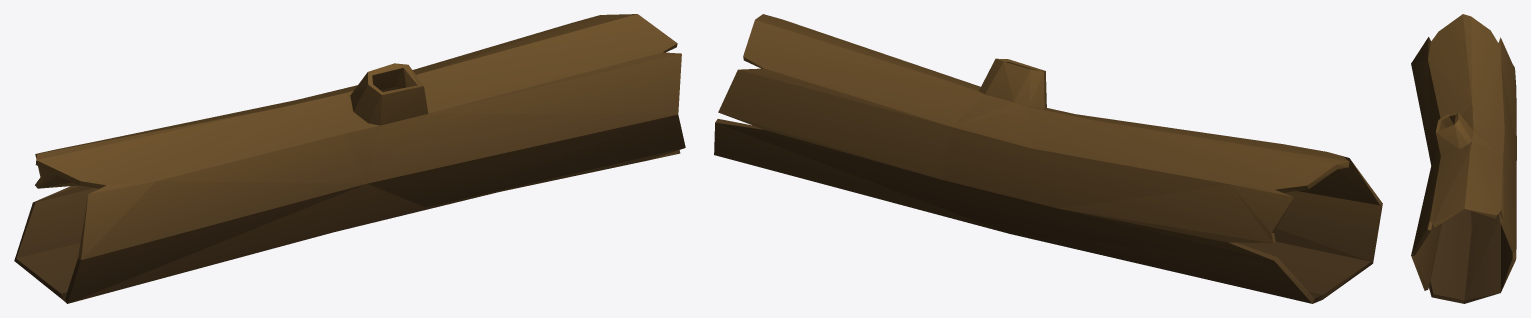
Rendered from Summer_Log_01.glb.
3 renders of one model, left to right at view 1: azimuth 30°, elevation 25°; view 2: azimuth 150°, elevation 25°; view 3: azimuth 270°, elevation 25°, orthographic. The views are drawn at different scales.
Parts seen in each view (by area): view 1: Summer_Log_01_LOD0; view 2: Summer_Log_01_LOD0; view 3: Summer_Log_01_LOD0.
Boxes of the visible parts, x1,y1,x2,y2 form: Summer_Log_01_LOD0: [14, 14, 685, 303]; Summer_Log_01_LOD0: [714, 14, 1382, 303]; Summer_Log_01_LOD0: [1411, 14, 1516, 303].
Size of what is drawn, in the model's own units: 1.7 by 0.4144 by 0.3803.
1 material, 1 textured.
